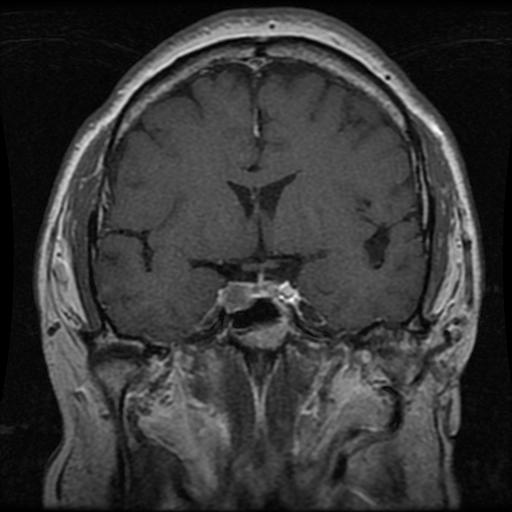Pituirity_tumour: (219, 281, 279, 312)
